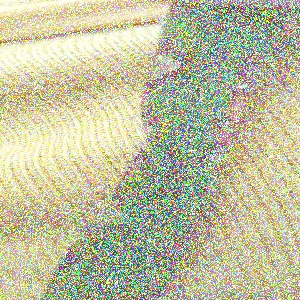Brown_Spot: (146, 32, 191, 89), (131, 98, 168, 159), (230, 53, 268, 101), (195, 138, 230, 184), (162, 236, 190, 264), (209, 106, 235, 134), (101, 186, 126, 208), (184, 215, 200, 233)
